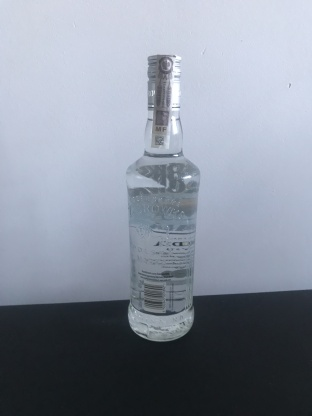nakretka: (144, 50, 183, 114)
